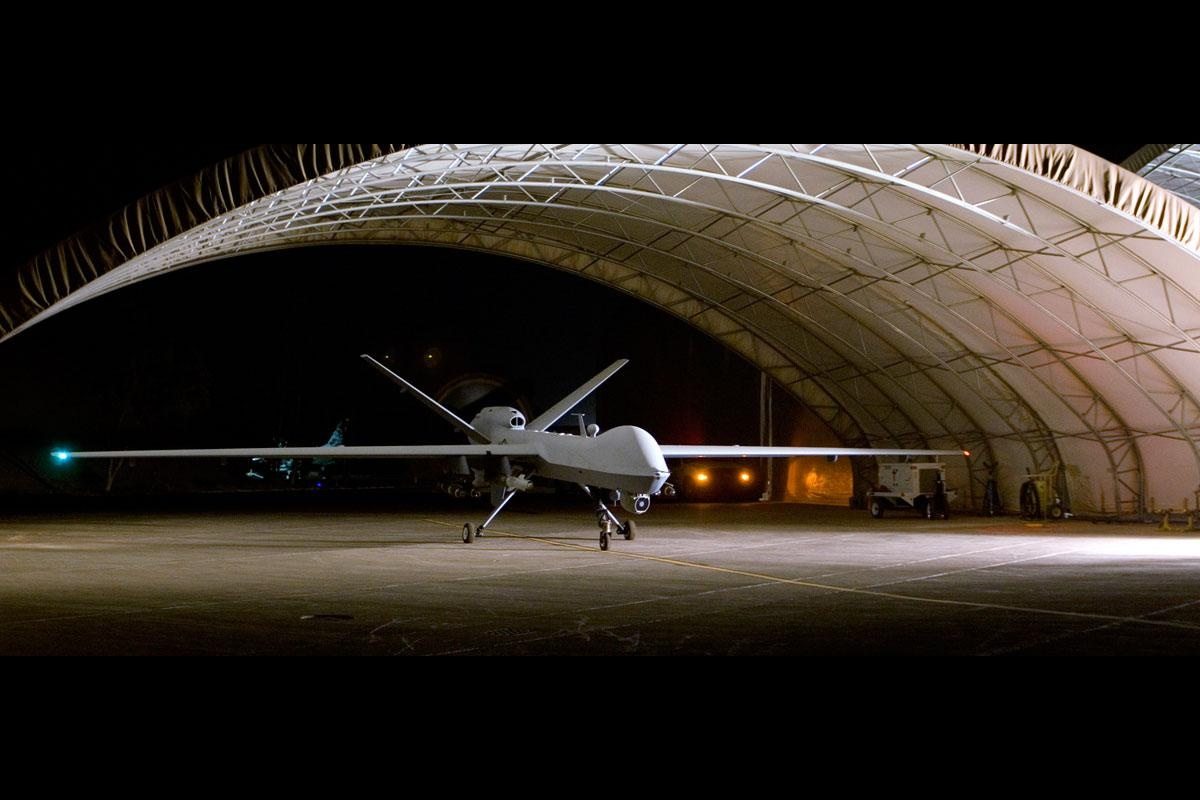aircraft: (9, 350, 964, 542), (19, 350, 674, 543)
